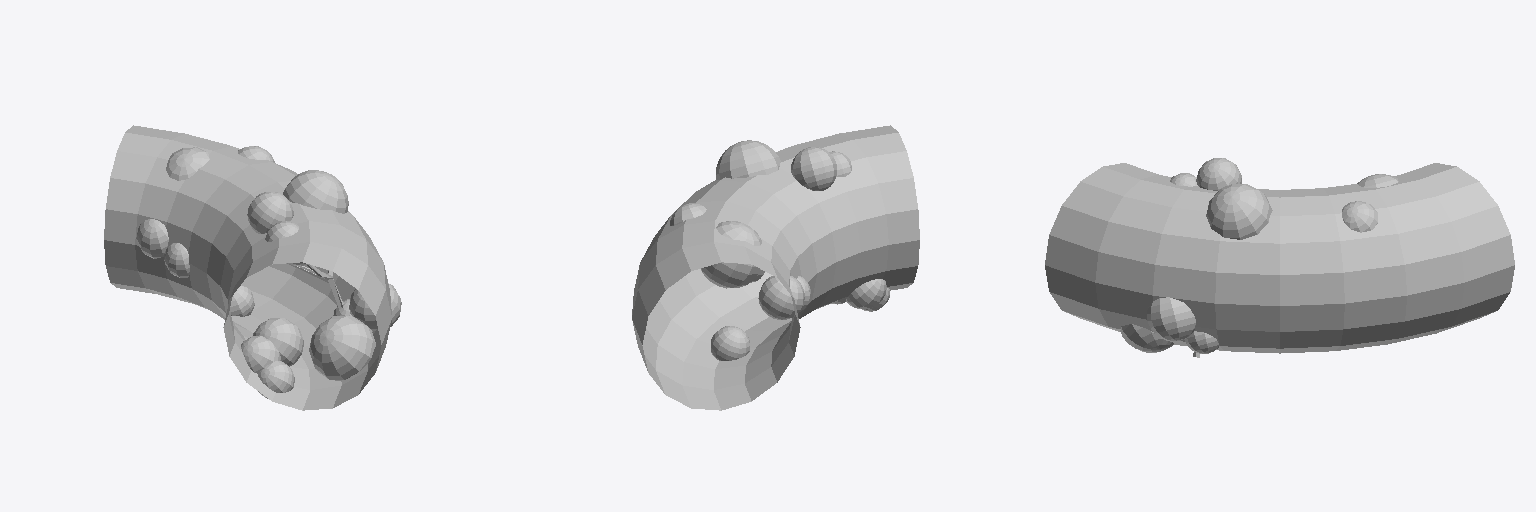
3 views of the same model, side by side, from view 1: azimuth 30°, elevation 25°; view 2: azimuth 150°, elevation 25°; view 3: azimuth 270°, elevation 25° (orthographic).
Parts seen in each view (by area): view 1: lCurve_C; view 2: lCurve_C; view 3: lCurve_C.
Part boxes in pixels (left/top/right/bottom): lCurve_C: left=104, top=125, right=401, bottom=410; lCurve_C: left=632, top=125, right=919, bottom=410; lCurve_C: left=1045, top=158, right=1514, bottom=357.
Size of the model in its own units: 107 by 98.02 by 236.